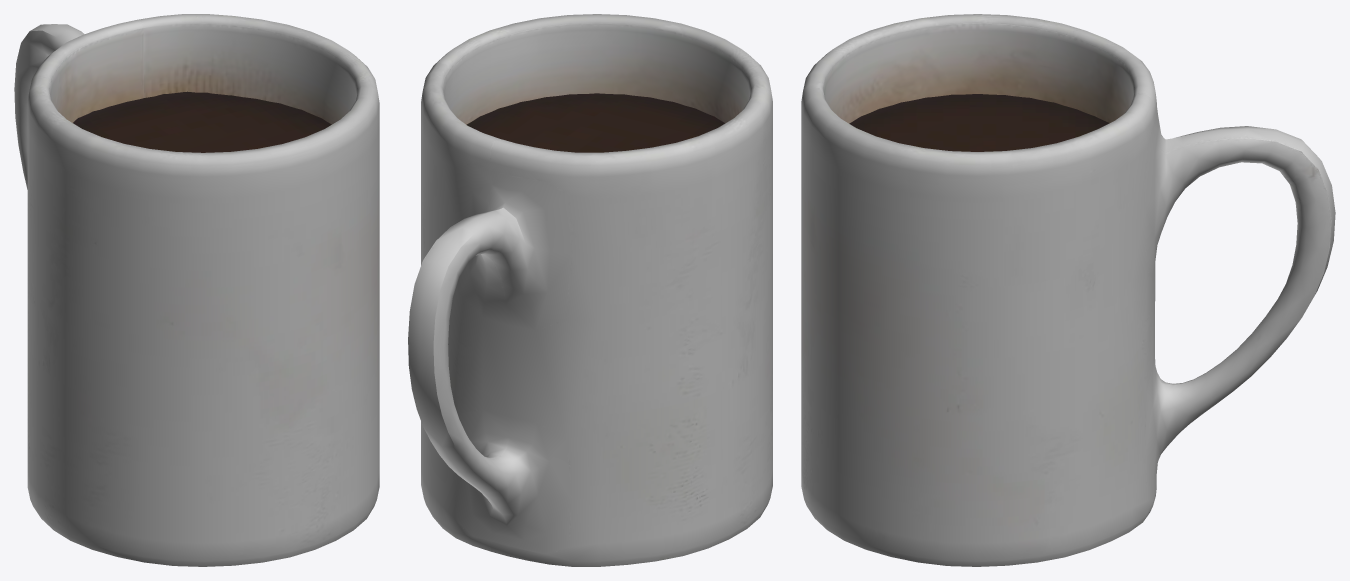
The model's file is coffee_cup.glb.
3 renders of one model, left to right at view 1: azimuth 30°, elevation 25°; view 2: azimuth 150°, elevation 25°; view 3: azimuth 270°, elevation 25°, orthographic.
Parts seen in each view (by area): view 1: coffee_cup_Mat_0; view 2: coffee_cup_Mat_0; view 3: coffee_cup_Mat_0.
Part boxes in pixels (x1=…): coffee_cup_Mat_0: x1=14, y1=14, x2=379, y2=566; coffee_cup_Mat_0: x1=408, y1=14, x2=772, y2=566; coffee_cup_Mat_0: x1=801, y1=14, x2=1335, y2=566.
Bounding box in the file's own units: 0.0976 × 0.1254 × 0.1478.
Materials: 1 (1 with a texture image).
